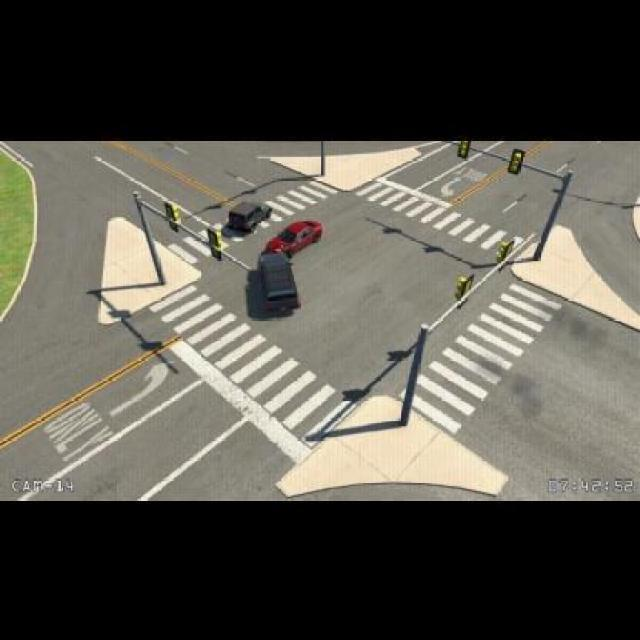accident: (251, 226, 294, 271)
